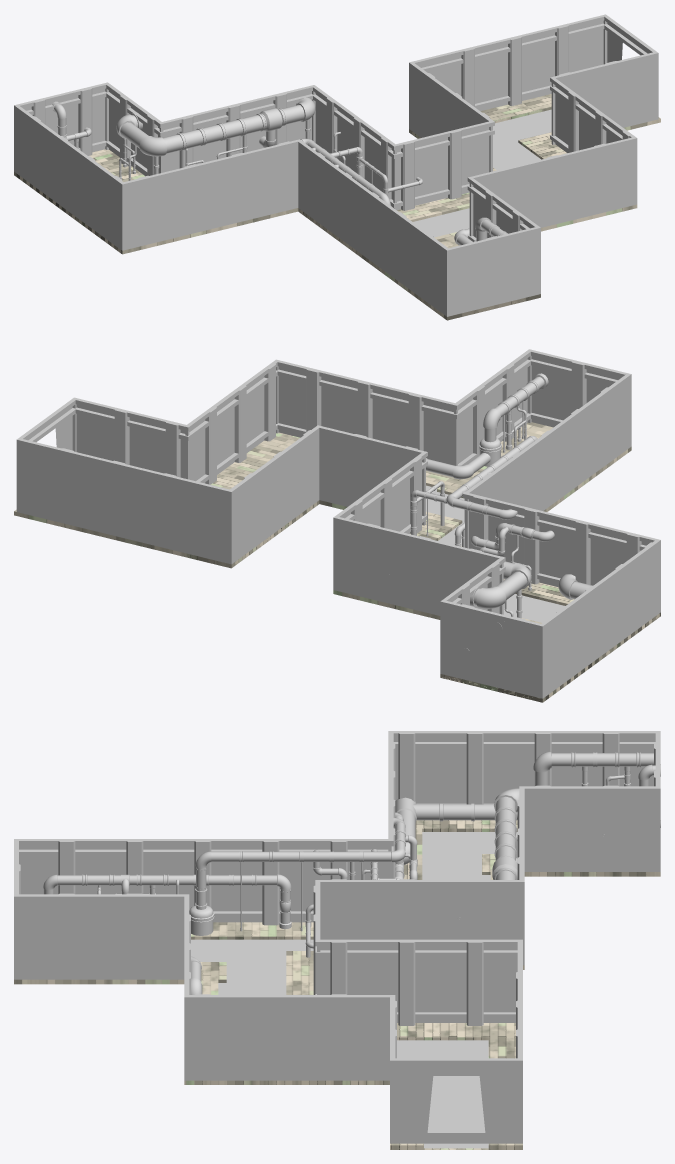
Rendered from Sewage system_floor.fbx.
3 renders of one model, top to bottom at view 1: azimuth 30°, elevation 25°; view 2: azimuth 150°, elevation 25°; view 3: azimuth 270°, elevation 25°, orthographic. The views are drawn at different scales.
Visible parts, largest first — view 1: Walls, Cylinder, Plane, Water; view 2: Walls, Cylinder, Plane, Water; view 3: Walls, Cylinder, Water, Plane.
Boxes of the visible parts, <box> form: Walls: <box>14,14,658,316</box>; Cylinder: <box>52,97,507,246</box>; Plane: <box>14,94,660,320</box>; Water: <box>413,109,551,237</box>; Walls: <box>16,349,660,698</box>; Cylinder: <box>384,373,657,654</box>; Plane: <box>14,422,660,702</box>; Water: <box>426,485,564,622</box>; Walls: <box>14,731,660,1143</box>; Cylinder: <box>43,751,660,994</box>; Water: <box>191,832,517,1148</box>; Plane: <box>14,820,660,1149</box>.
Size of the model in its own units: 4600 by 570 by 3802.
